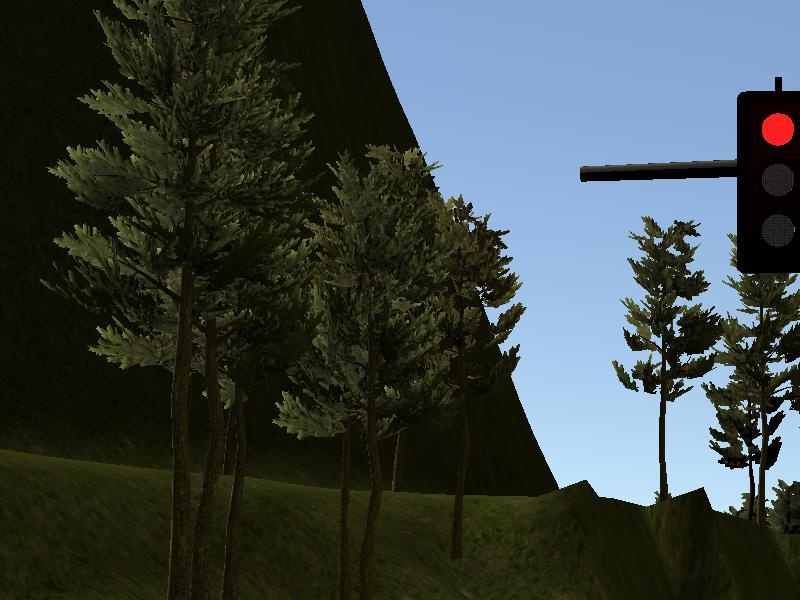RED: (734, 92, 800, 275)
